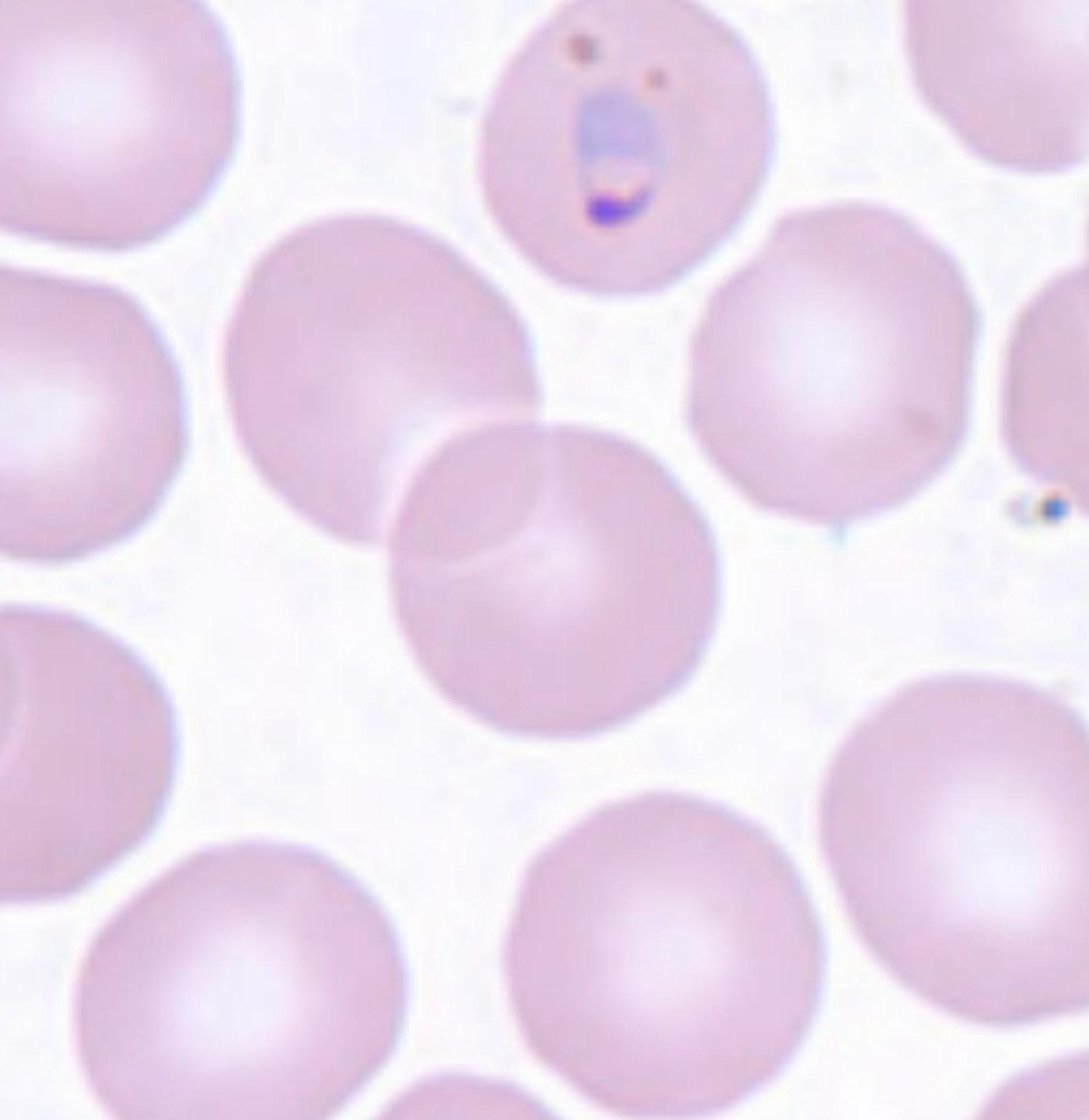Infected: (478, 0, 769, 294)
Uninfected: (222, 214, 542, 557), (394, 424, 722, 744), (504, 793, 825, 1117), (814, 669, 1089, 1029), (72, 838, 416, 1120), (680, 201, 975, 521), (0, 0, 234, 247), (0, 273, 192, 557), (0, 603, 175, 901)
